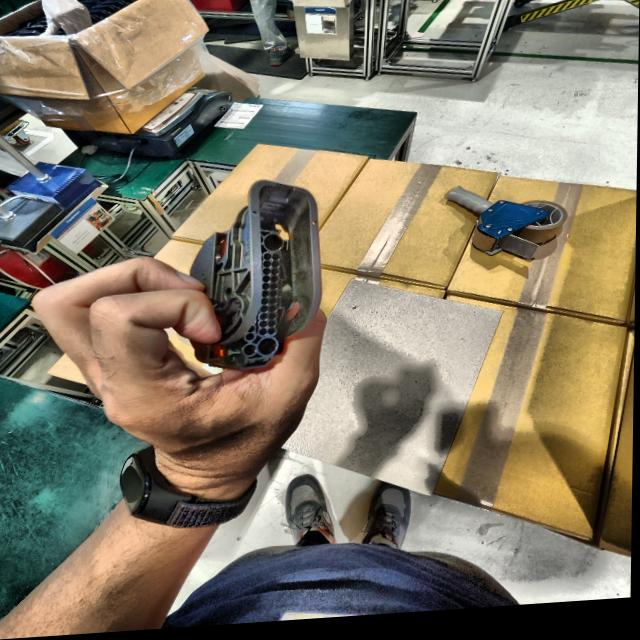P38: (191, 184, 322, 374)
